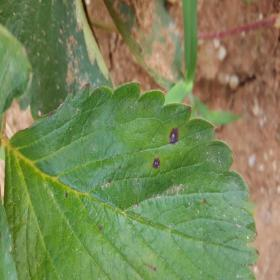Leaf Spot: (3, 81, 260, 279)
